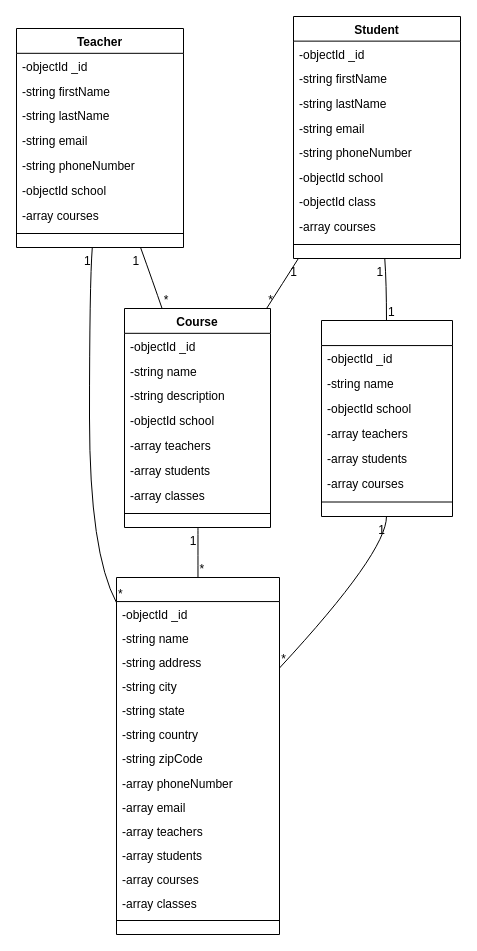
Image size: 477x951. Some labels were removed from this diagram. Here are the shapes that lost their labels. From the top down, the box of each, then its label:
(320, 320, 452, 516): Class
(116, 576, 280, 934): School
